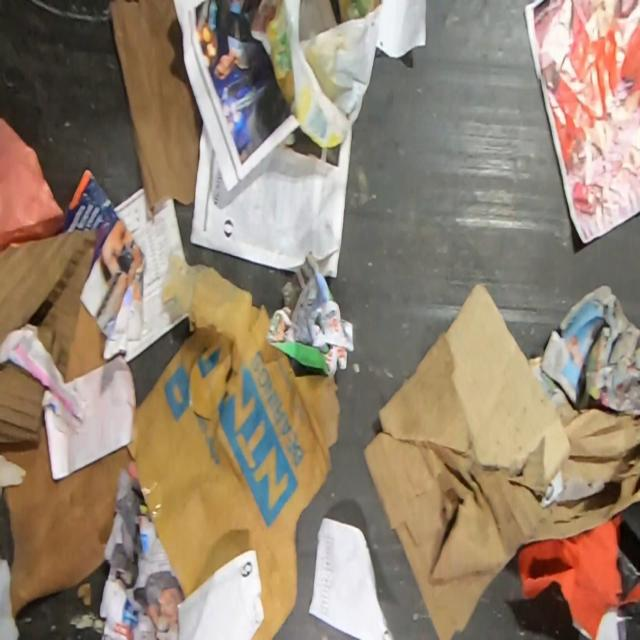cardboard: (361, 280, 640, 637), (130, 252, 339, 639), (0, 362, 133, 615), (110, 0, 204, 213), (0, 225, 106, 381)
soft_plastic: (251, 1, 382, 151), (0, 115, 63, 252)
